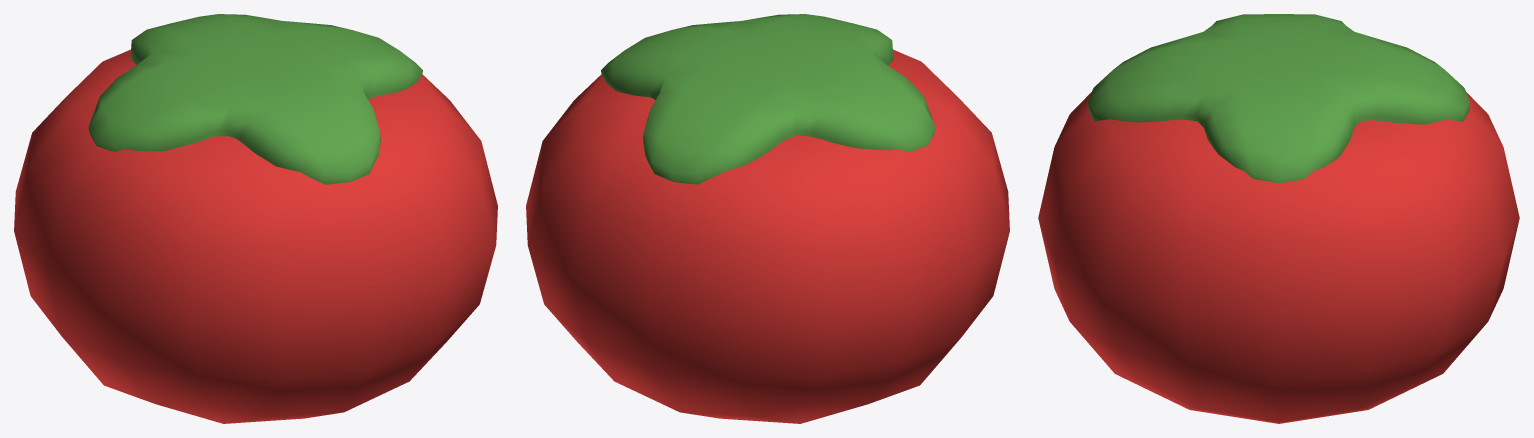
Rendered from Tomato.fbx.
The picture shows the model from 3 angles, left to right: view 1: azimuth 30°, elevation 25°; view 2: azimuth 150°, elevation 25°; view 3: azimuth 270°, elevation 25°; orthographic projection.
Visible parts, largest first — view 1: Tomato; view 2: Tomato; view 3: Tomato.
Boxes of the visible parts, x1,y1,x2,y2 form: Tomato: (14, 14, 497, 423); Tomato: (526, 14, 1009, 423); Tomato: (1038, 14, 1519, 423).
Size of the model in its own units: 14.24 by 11.05 by 14.24.
